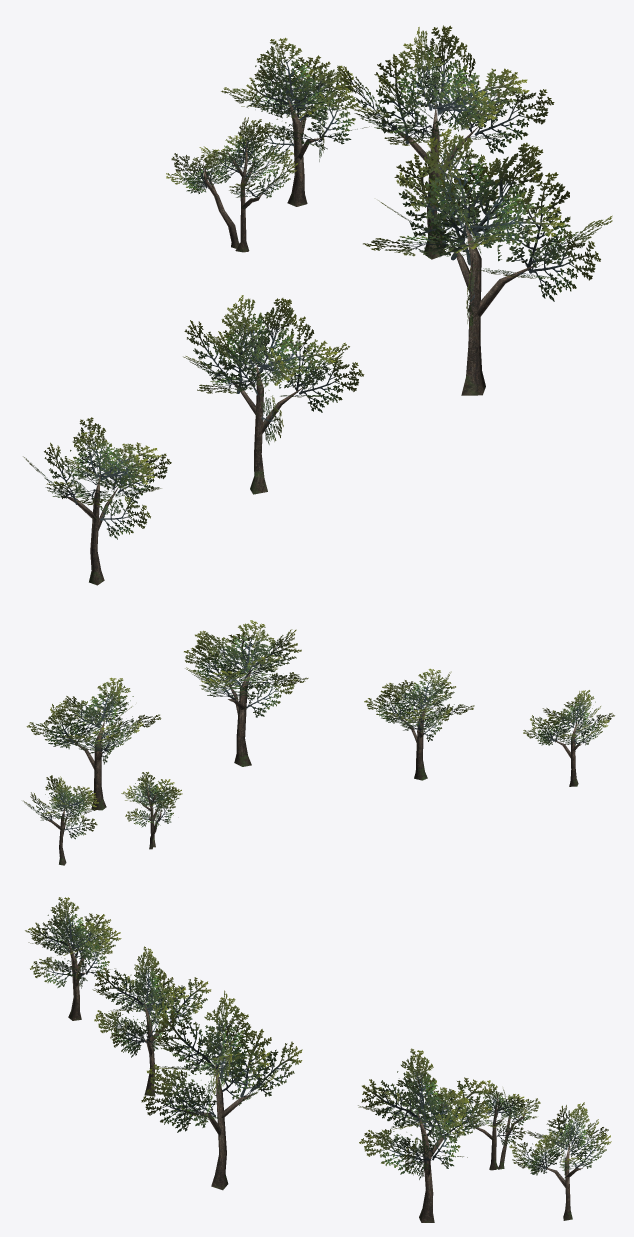
File: Bf01g_tree_a_1v1_dark.fbx
3 renders of one model, top to bottom at view 1: azimuth 30°, elevation 25°; view 2: azimuth 150°, elevation 25°; view 3: azimuth 270°, elevation 25°, orthographic. The views are drawn at different scales.
Visible parts, largest first — view 1: Bf01g_tree_a_1v1_dark; view 2: Bf01g_tree_a_1v1_dark; view 3: Bf01g_tree_a_1v1_dark.
Boxes of the visible parts, x1=… form: Bf01g_tree_a_1v1_dark: x1=23, y1=25, x2=612, y2=585; Bf01g_tree_a_1v1_dark: x1=23, y1=620, x2=614, y2=865; Bf01g_tree_a_1v1_dark: x1=25, y1=897, x2=611, y2=1222.
Size of the model in its own units: 56.46 by 19.98 by 55.12.
1 material, 1 textured.
